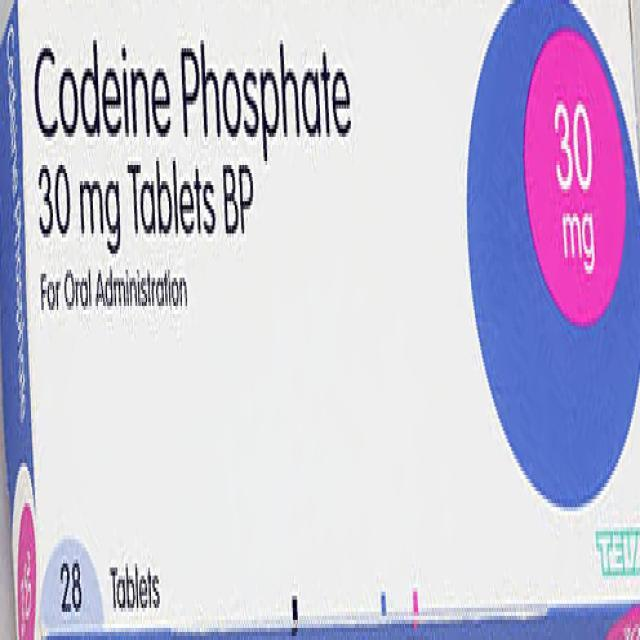drug-name: (30, 28, 352, 156)
